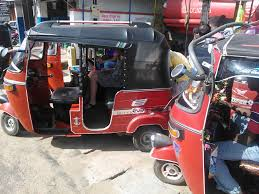tuk tuk: (2, 20, 171, 151), (150, 22, 257, 192)
